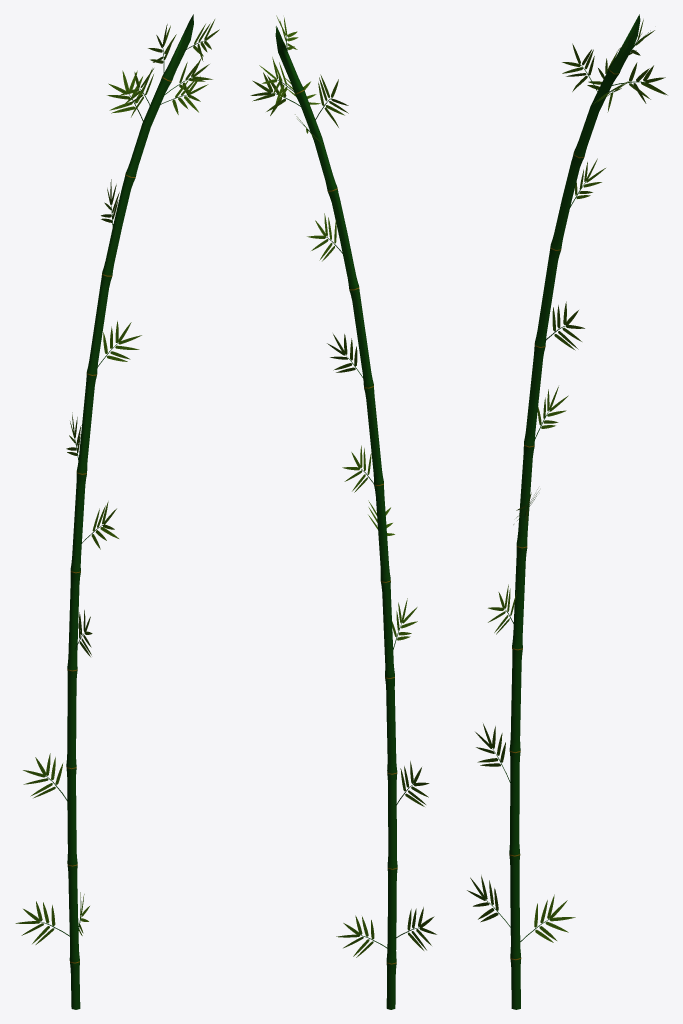
Rendered from BambooCurvedCv1.fbx.
3 renders of one model, left to right at view 1: azimuth 30°, elevation 25°; view 2: azimuth 150°, elevation 25°; view 3: azimuth 330°, elevation 25°, orthographic. The views are drawn at different scales.
Visible parts, largest first — view 1: BambooC.001; view 2: BambooC.001; view 3: BambooC.001.
Part boxes in pixels (x1,y1,x2,y2): BambooC.001: [15, 14, 219, 1009]; BambooC.001: [250, 15, 436, 1009]; BambooC.001: [467, 14, 667, 1009].
Size of the model in its own units: 209 by 994 by 93.8.
